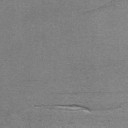finishing roll printing: (34, 104, 90, 112)
